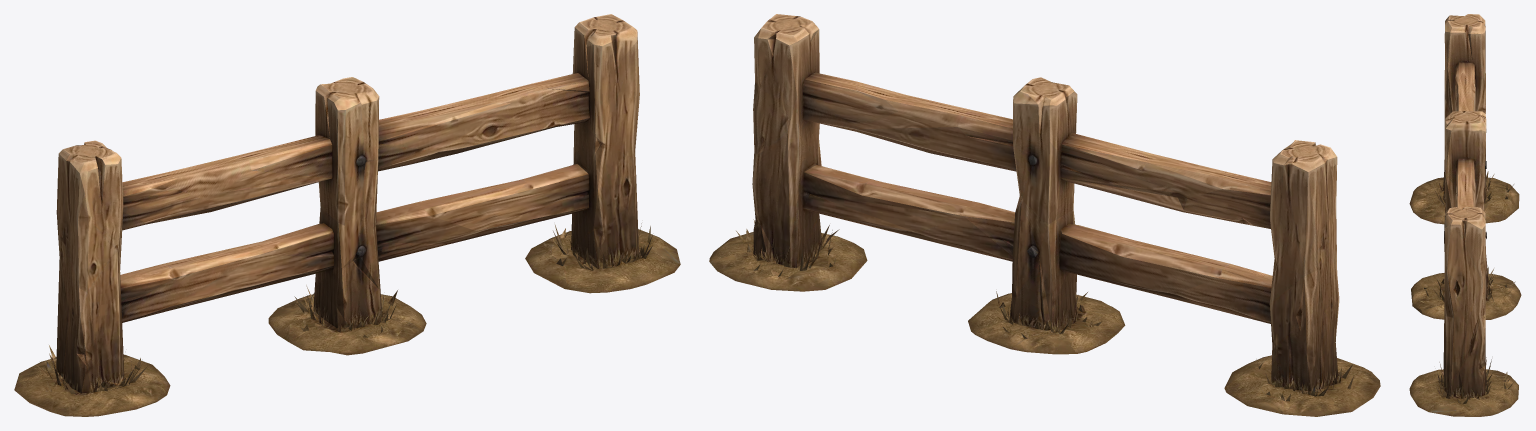
File: camp_barriere.glb
3 views of the same model, side by side, from view 1: azimuth 30°, elevation 25°; view 2: azimuth 150°, elevation 25°; view 3: azimuth 270°, elevation 25° (orthographic). The views are drawn at different scales.
Size of the model in its own units: 1.9 by 0.6635 by 0.374.
1 material, 1 textured.
